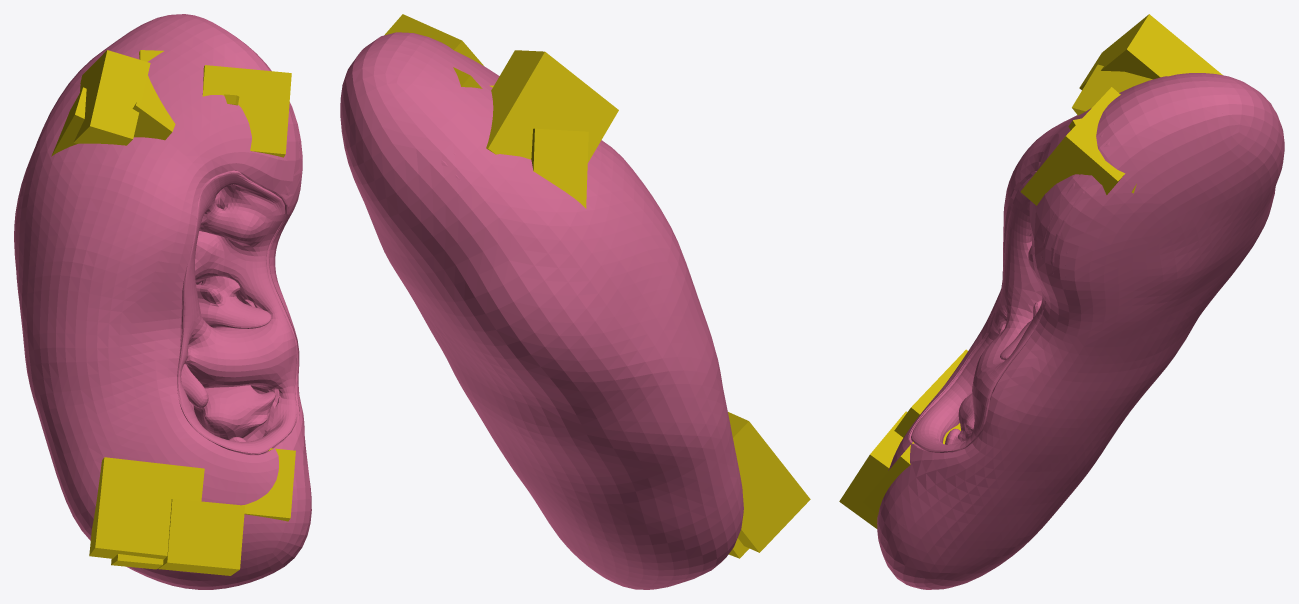
Rendered from male_with_og_tbs.glb.
3 views of the same model, side by side, from view 1: azimuth 30°, elevation 25°; view 2: azimuth 150°, elevation 25°; view 3: azimuth 270°, elevation 25° (orthographic). The views are drawn at different scales.
Parts seen in each view (by area): view 1: world; view 2: world; view 3: world.
Part boxes in pixels (x1=…): world: x1=14, y1=14, x2=311, y2=589; world: x1=340, y1=14, x2=810, y2=589; world: x1=839, y1=14, x2=1284, y2=589.
Bounding box in the file's own units: 0.069 × 0.1149 × 0.0835.
